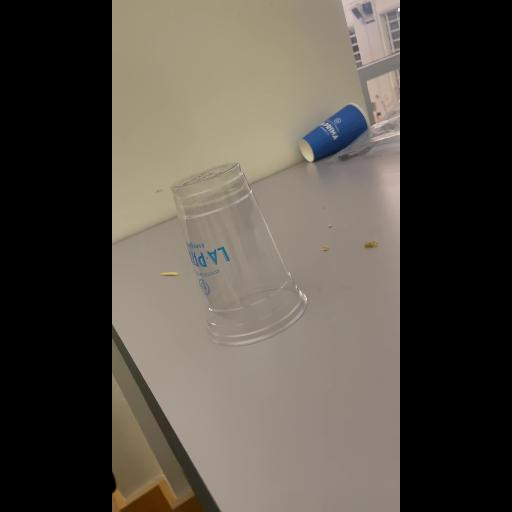lp_plastic_cup: (167, 159, 313, 359)
